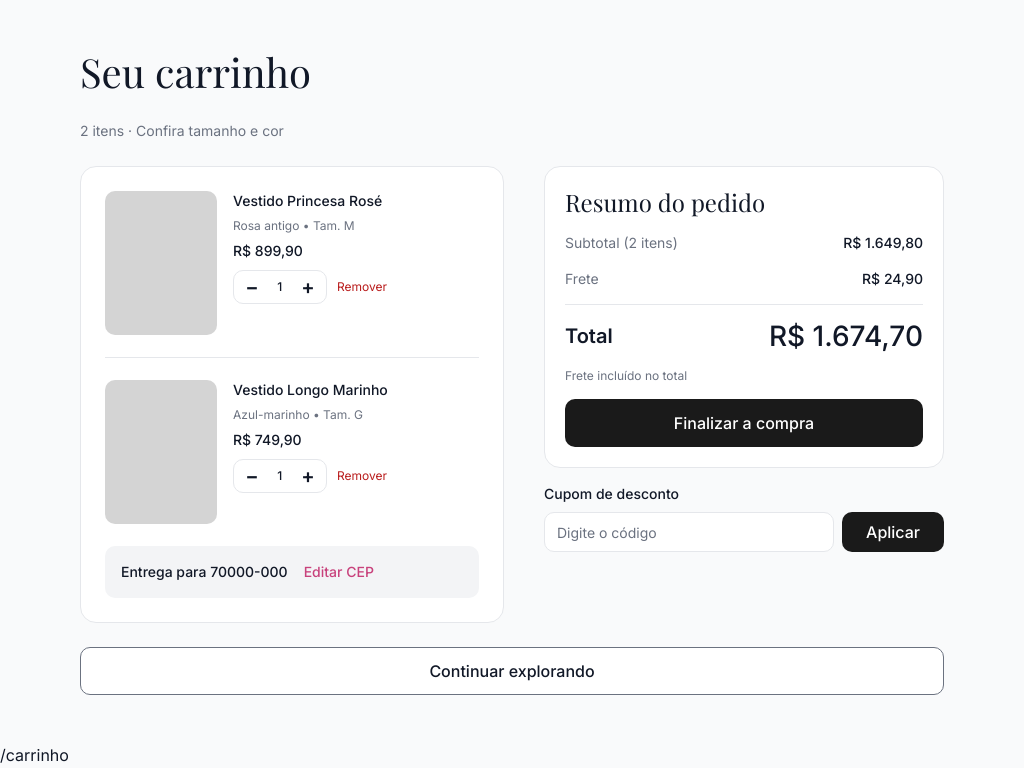
it: CarrinhoPage › com itens › remove item a item até o estado vazio, com o diálogo final no último
Click the button named "Remover Vestido Princesa Rosé": x=362, y=287 top-left (337, 278), bottom-right (387, 296)
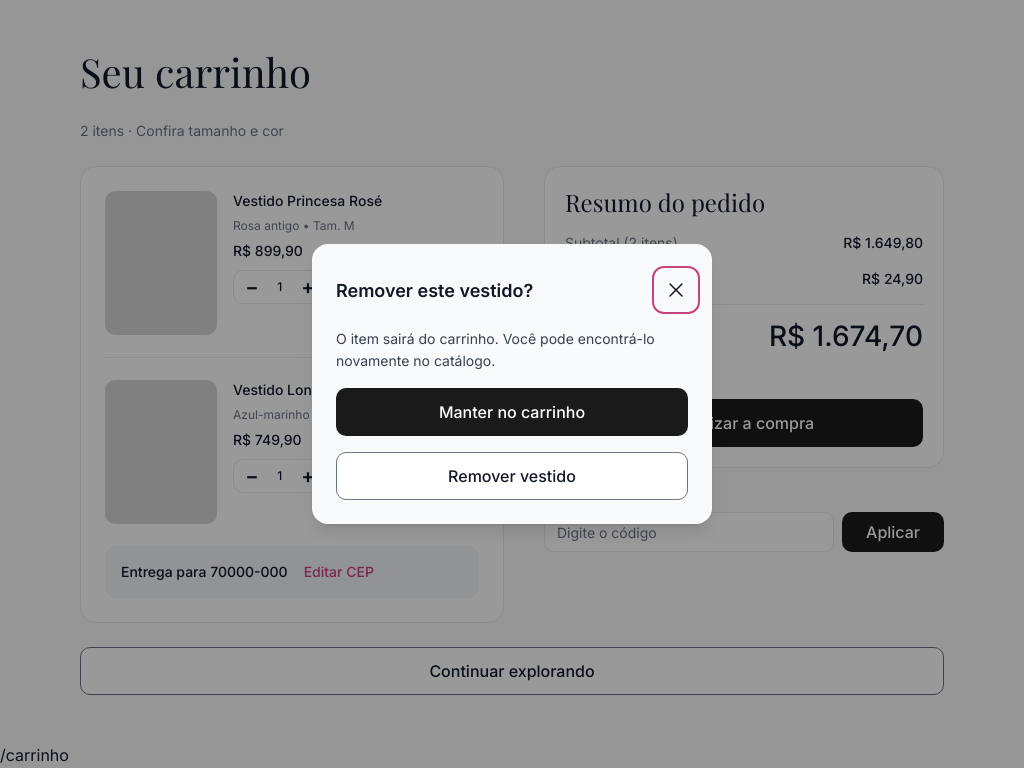
Click the button "Remover vestido": x=512, y=476 top-left (336, 452), bottom-right (688, 500)
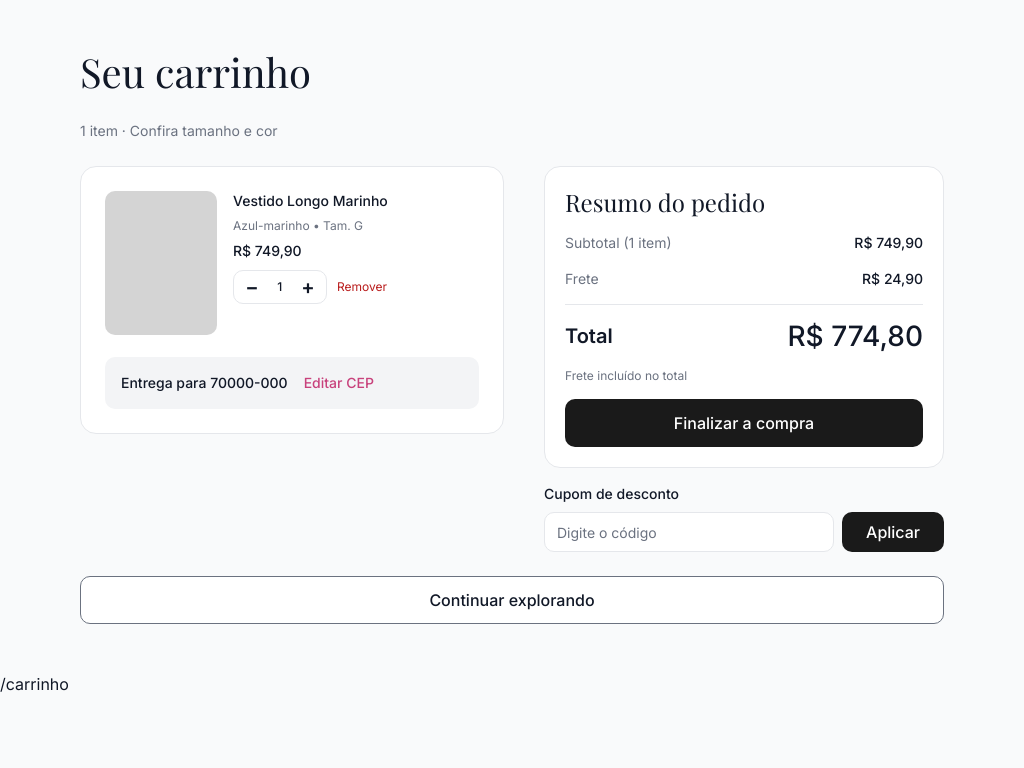
Expected: the text "1 item · Confira tamanho e cor" is shown, top-left (80, 122), bottom-right (278, 139)
Note: "−" com quantidade 1 também pede confirmação.
Click the button named "Diminuir quantidade de Vestido Longo Marinho": x=252, y=287 top-left (238, 271), bottom-right (266, 303)
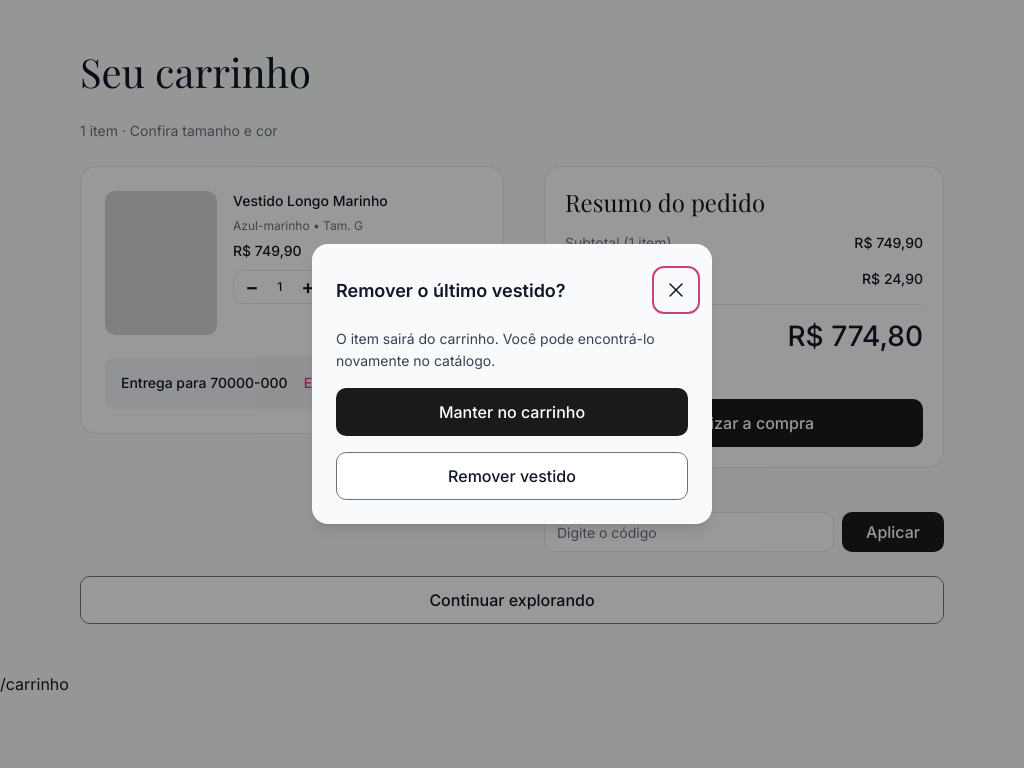
Click the button "Remover vestido": x=512, y=476 top-left (336, 452), bottom-right (688, 500)
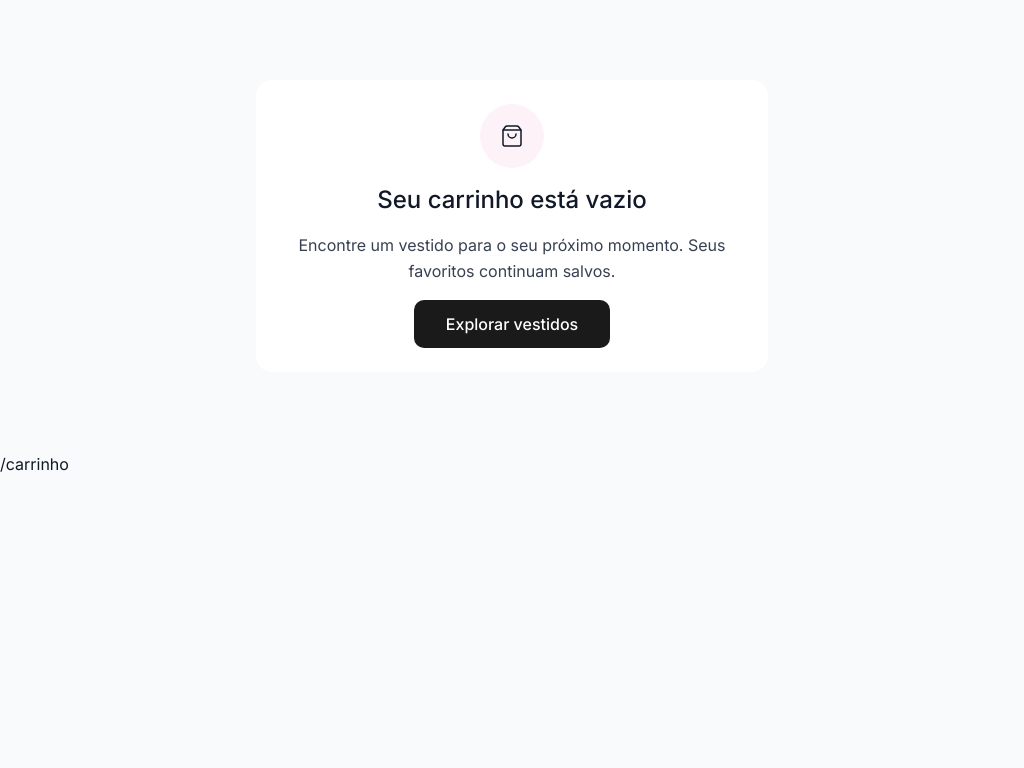
Expected: the heading "Seu carrinho está vazio" is shown, top-left (377, 184), bottom-right (647, 216)
